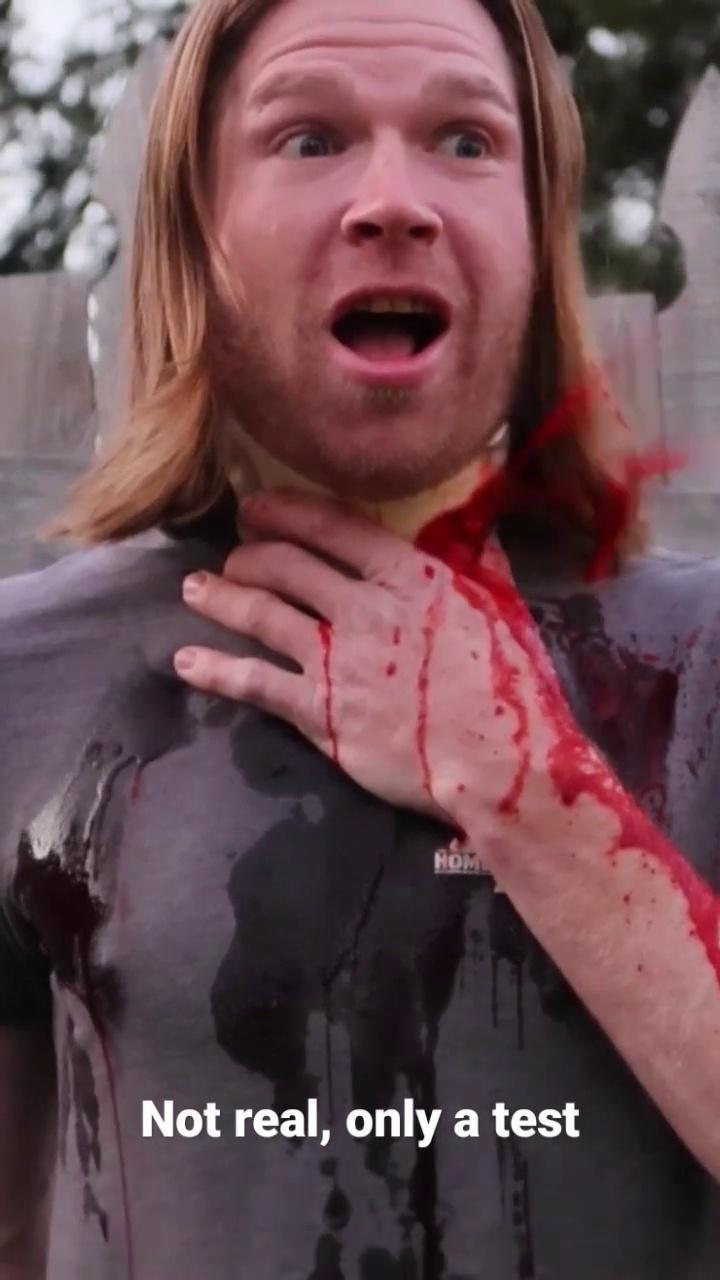Fire: (414, 388, 719, 980), (316, 620, 338, 764)
